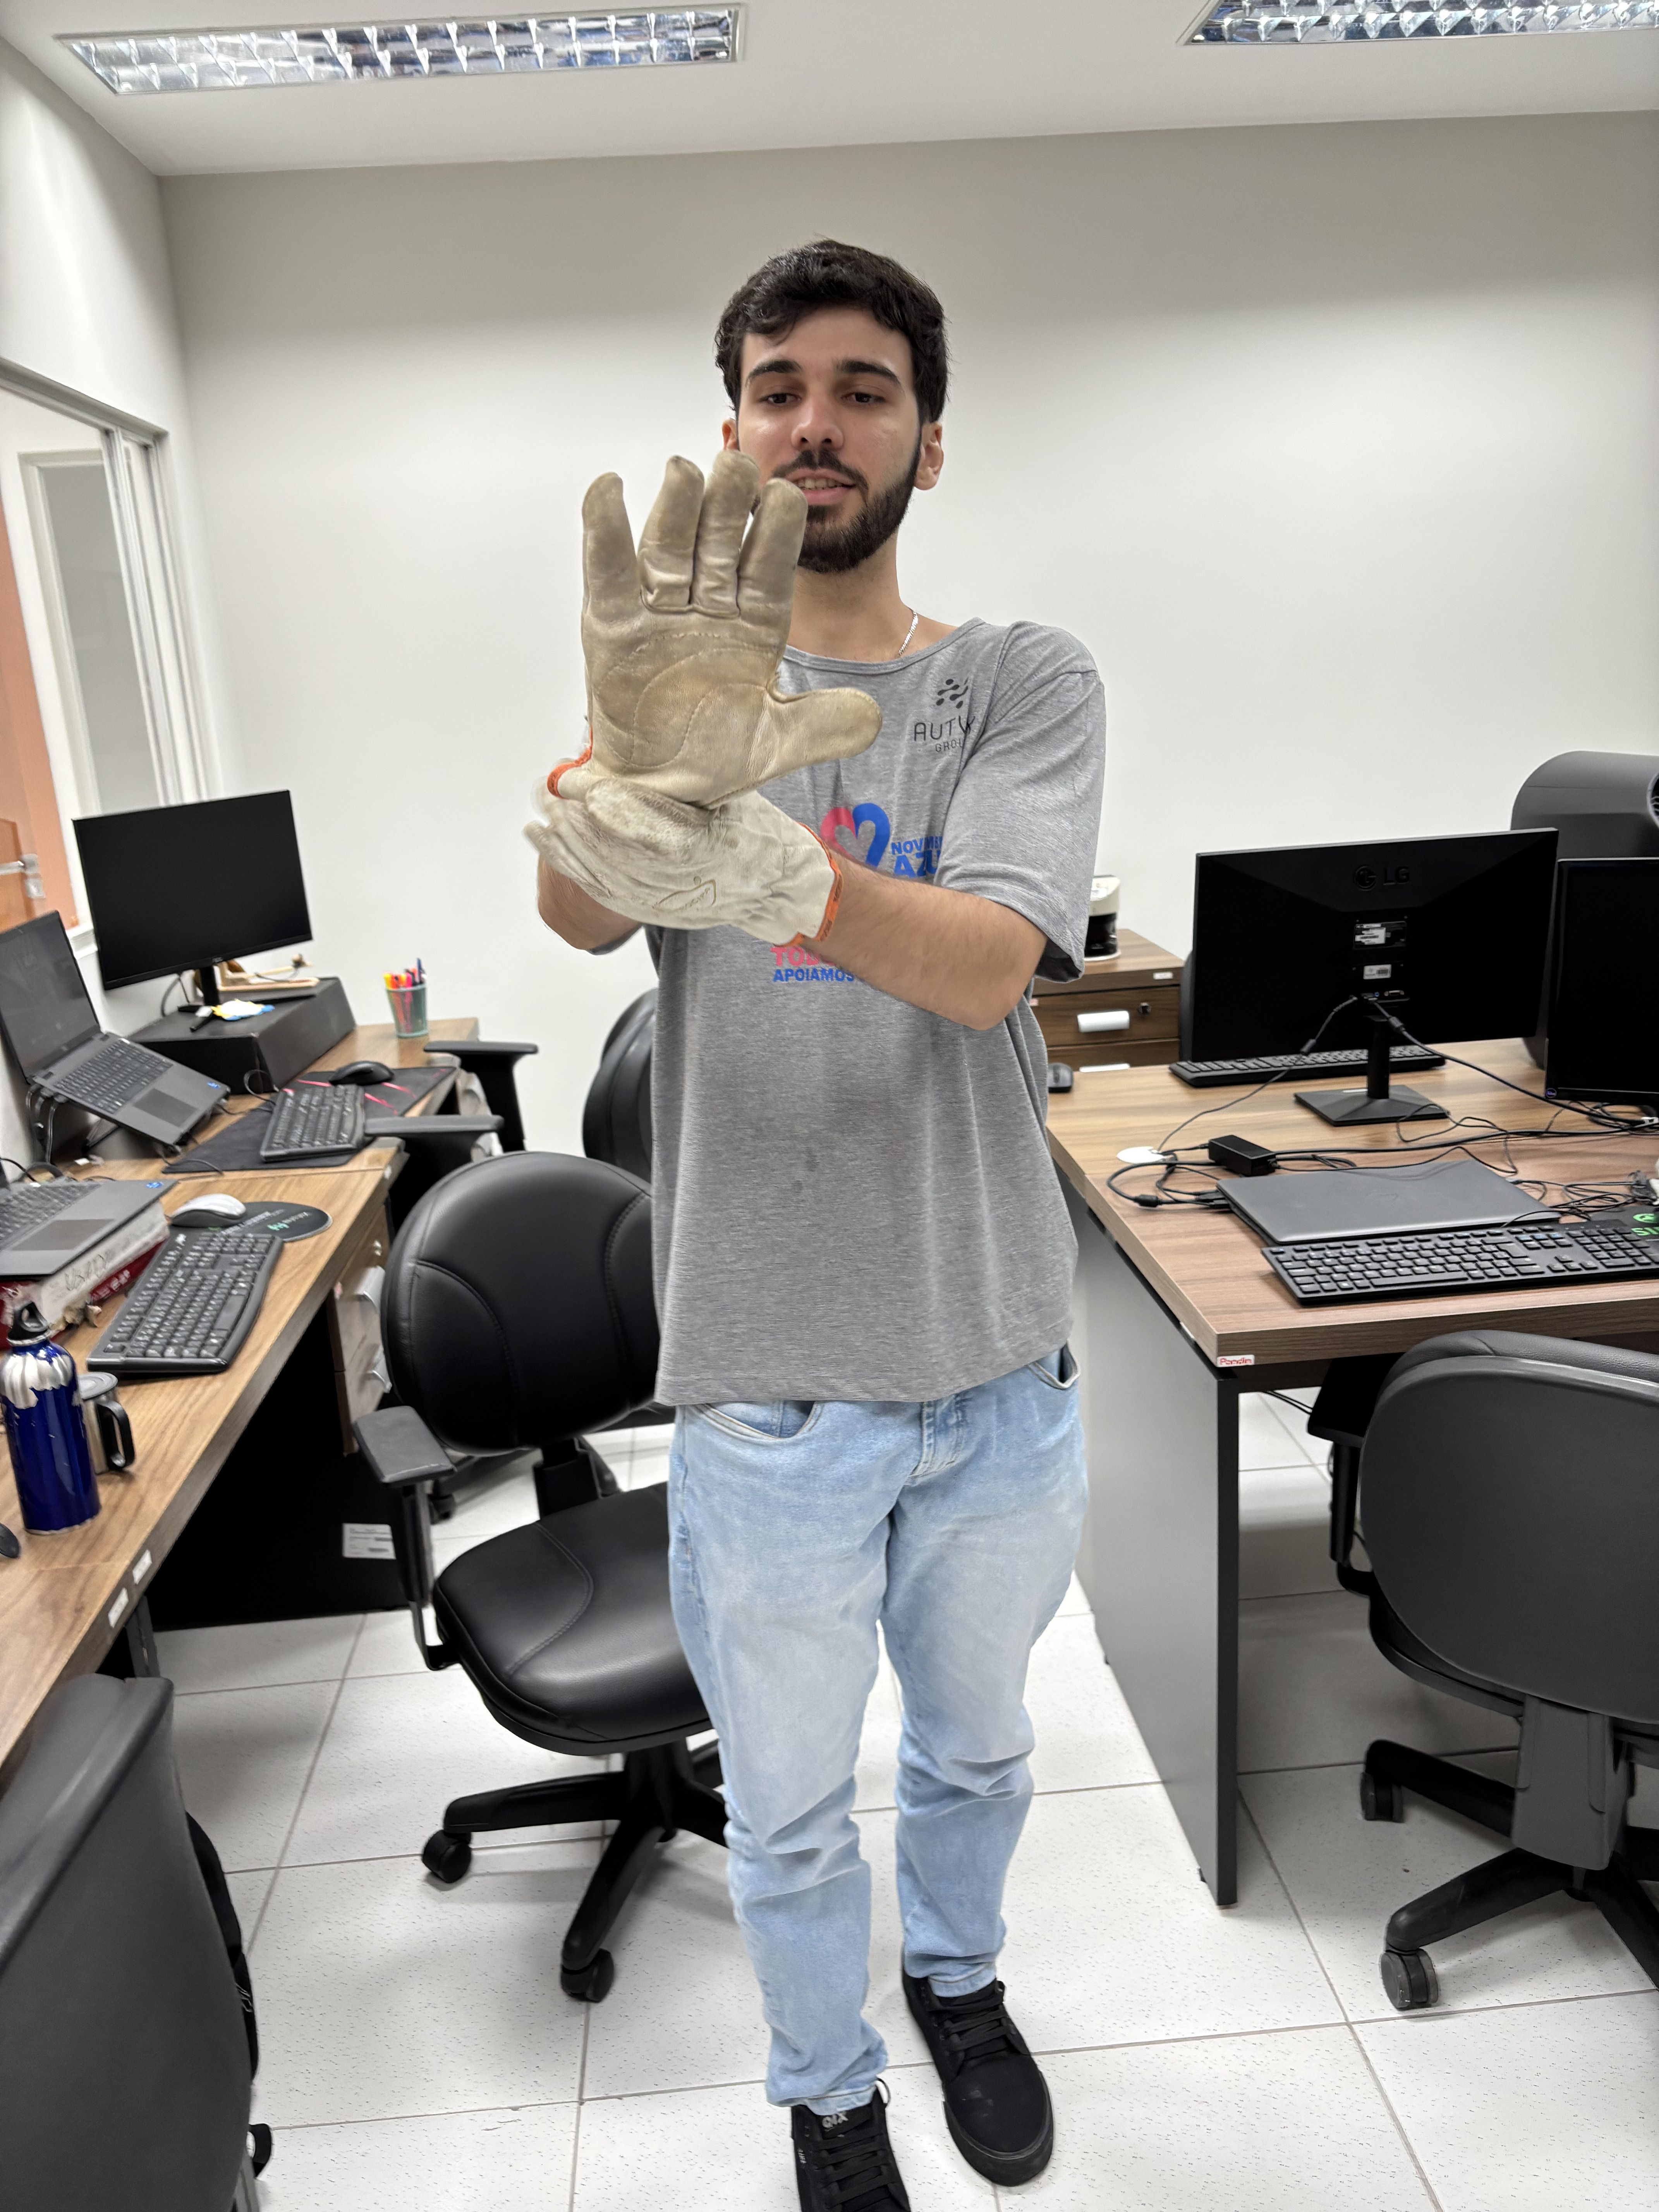Gloves: (542, 442, 885, 796), (493, 779, 842, 982)
